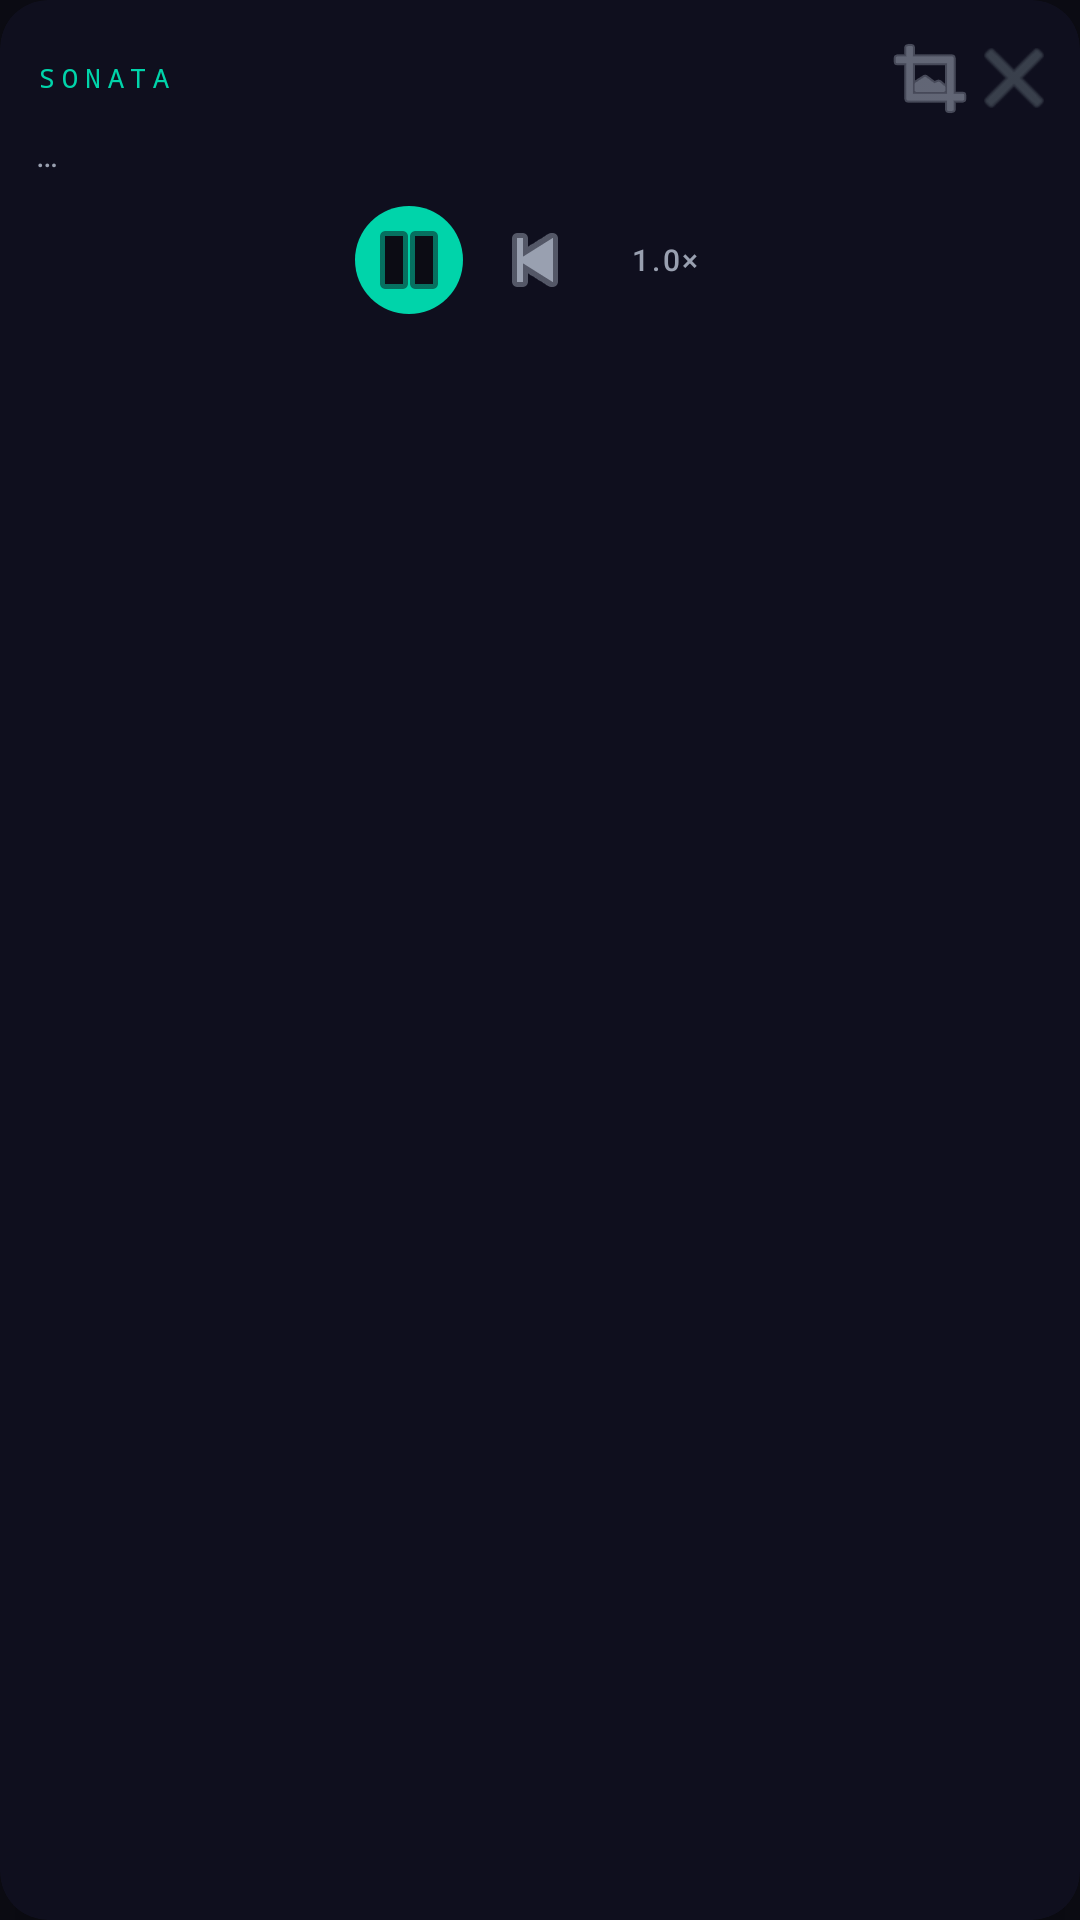

Screen size 1080x1920. Icon name, then its center in pixels as point (x, y):
Close: point (1014, 78)
Play / Pause: point (409, 260)
